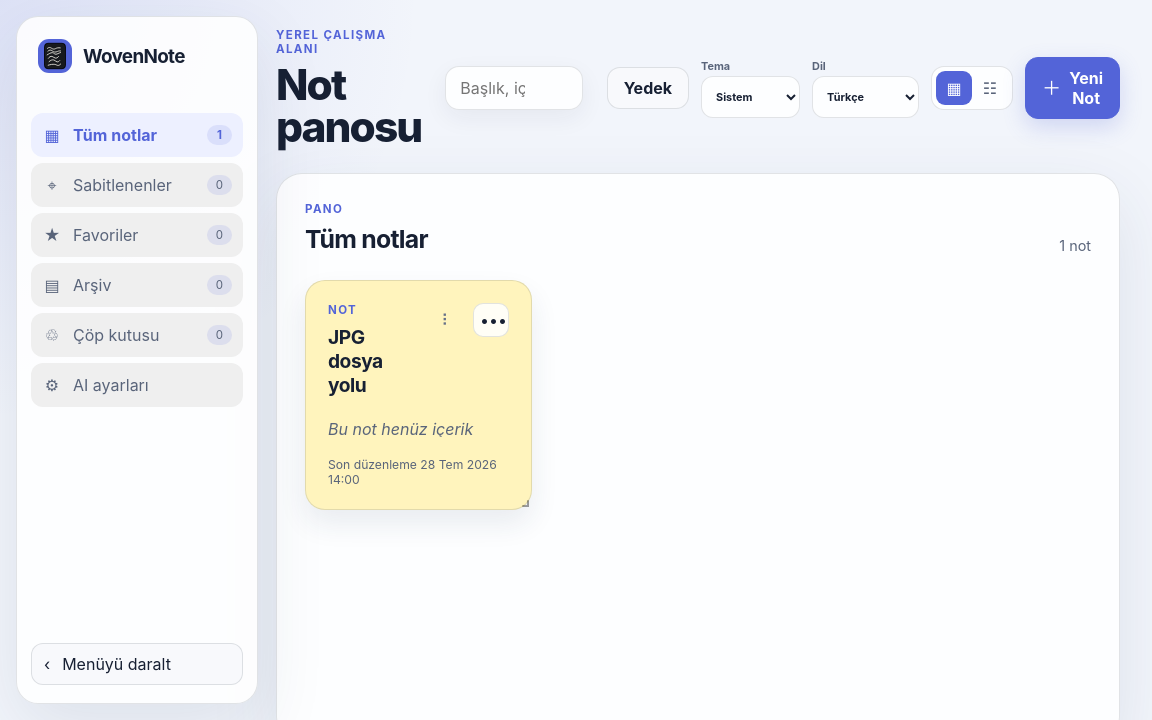
Scenario: App note board › keeps an image returned through the PDF and general-file button out of the editor
This screenshot has width=1152, height=720.
Check: the heading "JPG dosya yolu" is shown, box [328,325,383,397]
Click the button named "JPG dosya yolu notunu aç" at x=418, y=395, box [306,281,531,509]
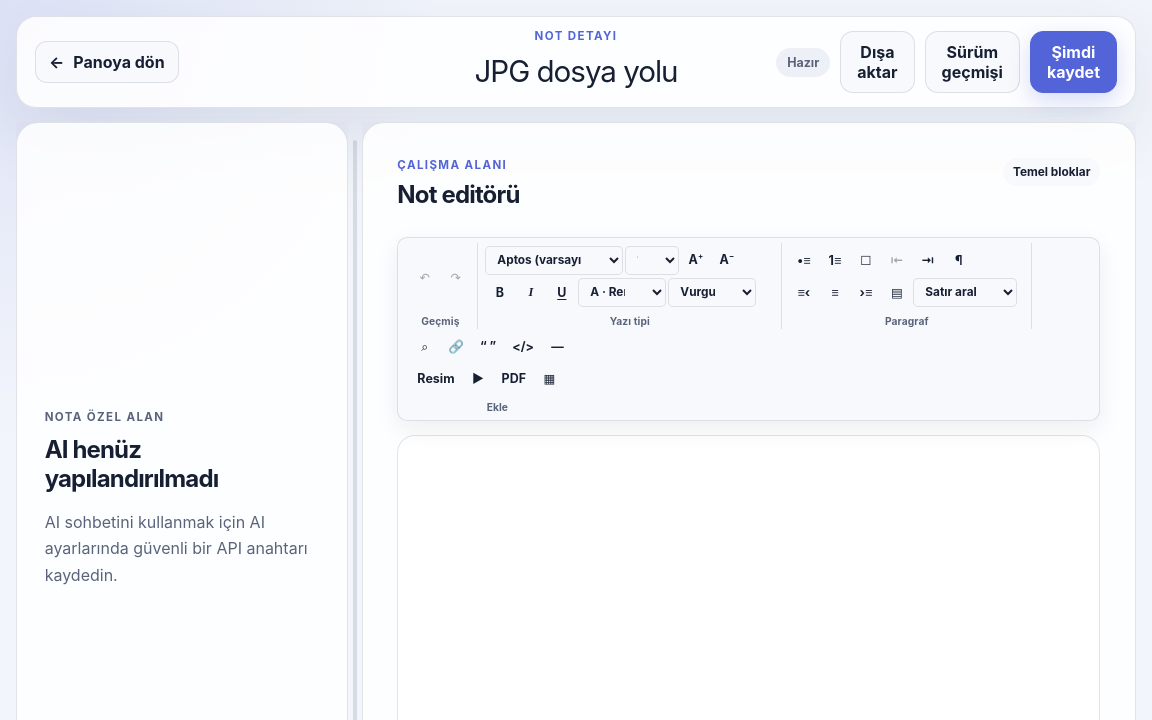
Click the button with aria-label "PDF veya dosya ekle" at x=514, y=378, box [495,364,533,392]
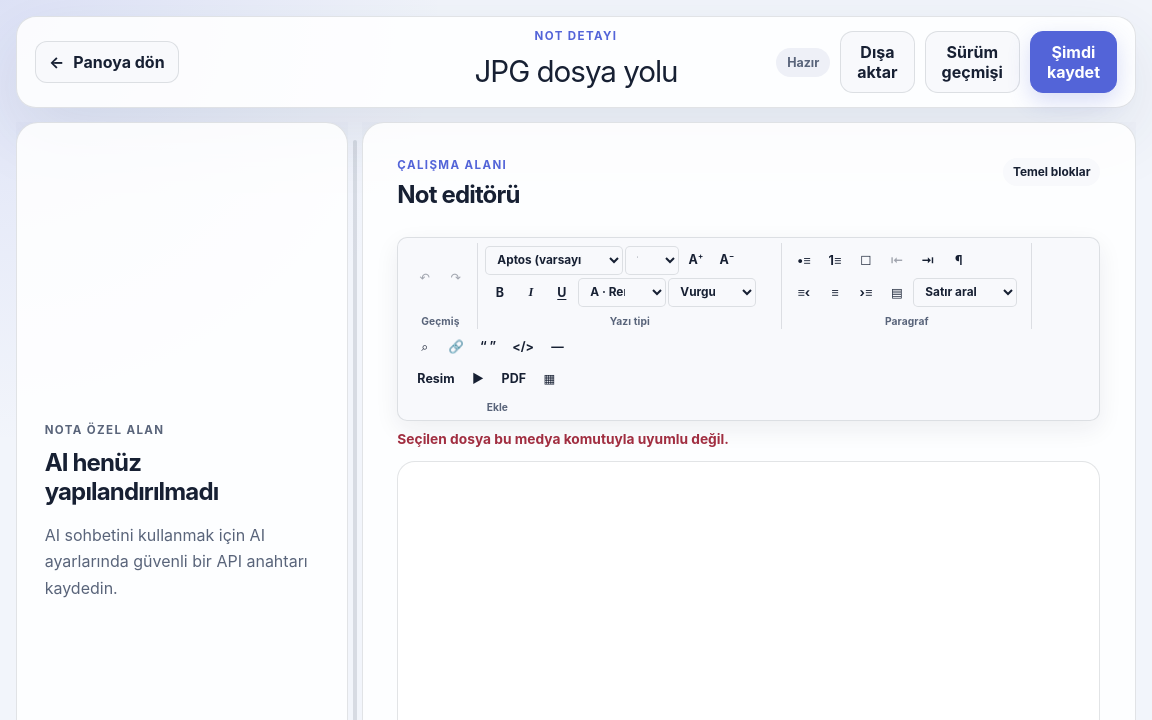
Check: the text "Seçilen dosya bu medya komutuyla uyumlu değil." is shown, box [397,430,729,446]
